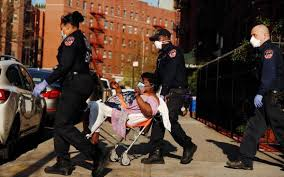mask: (150, 31, 172, 55), (247, 25, 267, 48), (56, 16, 74, 37), (135, 72, 149, 94)
